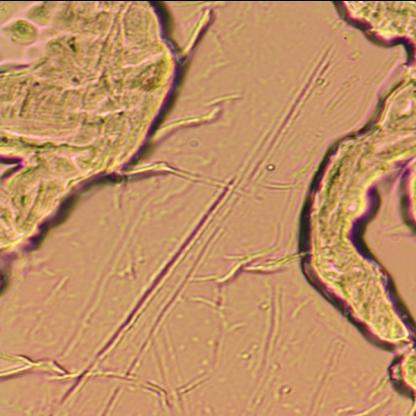Normal: (0, 0, 185, 270), (311, 0, 416, 416)
